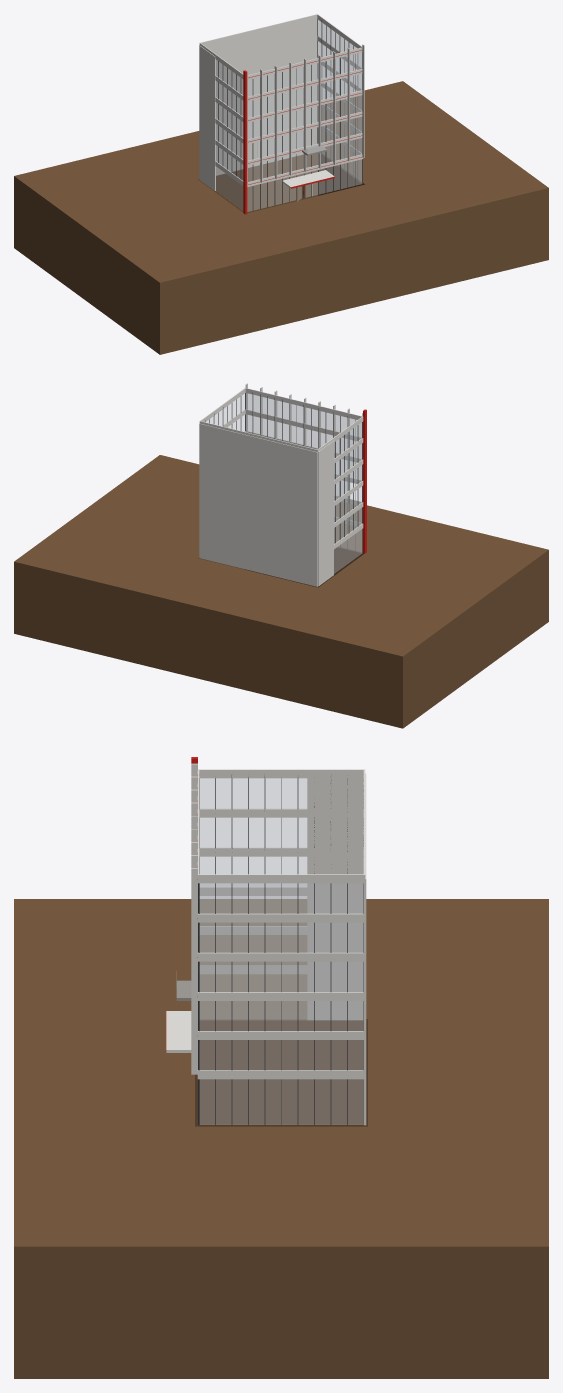
Rendered from FACADE.glb.
The picture shows the model from 3 angles, top to bottom: view 1: azimuth 30°, elevation 25°; view 2: azimuth 150°, elevation 25°; view 3: azimuth 270°, elevation 25°; orthographic projection. The views are drawn at different scales.
Parts seen in each view (by area): view 1: LV_FACADE, facade_glass_s, facade_glass_e, facade_glass_w; view 2: LV_FACADE, facade_glass_s, facade_glass_w, facade_glass_e; view 3: LV_FACADE, facade_glass_e, facade_glass_w.
Boxes of the visible parts, left/top/right/bottom form: LV_FACADE: left=14, top=14, right=548, bottom=354; facade_glass_s: left=247, top=52, right=361, bottom=211; facade_glass_e: left=318, top=20, right=361, bottom=182; facade_glass_w: left=216, top=60, right=242, bottom=209; LV_FACADE: left=14, top=383, right=548, bottom=728; facade_glass_s: left=246, top=393, right=361, bottom=552; facade_glass_w: left=334, top=423, right=361, bottom=573; facade_glass_e: left=206, top=394, right=244, bottom=431; LV_FACADE: left=14, top=757, right=548, bottom=1378; facade_glass_e: left=200, top=883, right=362, bottom=1124; facade_glass_w: left=200, top=778, right=306, bottom=1019.
Bounding box in the file's own units: 80 × 42.2 × 52.
